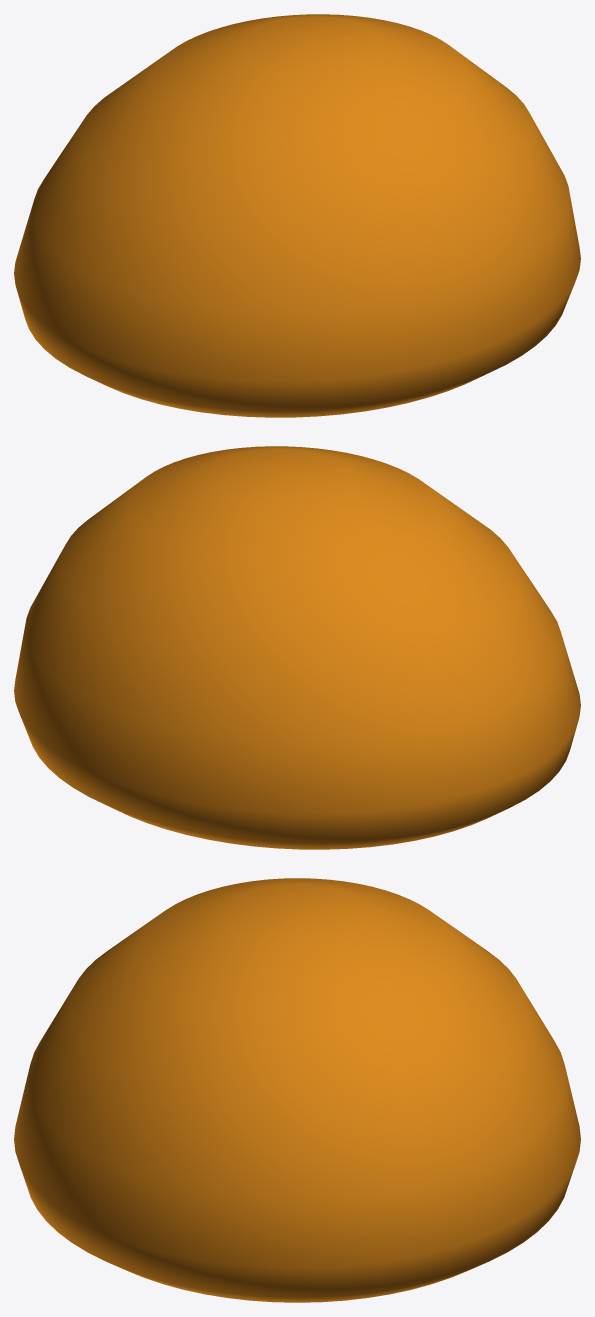
Rendered from capsule-honey-DuQkCum4.glb.
The picture shows the model from 3 angles, top to bottom: view 1: azimuth 30°, elevation 25°; view 2: azimuth 150°, elevation 25°; view 3: azimuth 270°, elevation 25°; orthographic projection. The views are drawn at different scales.
Parts seen in each view (by area): view 1: capsule_body; view 2: capsule_body; view 3: capsule_body.
Boxes of the visible parts, left/top/right/bottom form: capsule_body: left=14, top=14, right=580, bottom=417; capsule_body: left=14, top=446, right=580, bottom=849; capsule_body: left=14, top=878, right=580, bottom=1302.
Size of the model in its own units: 0.34 by 0.185 by 0.3162.
